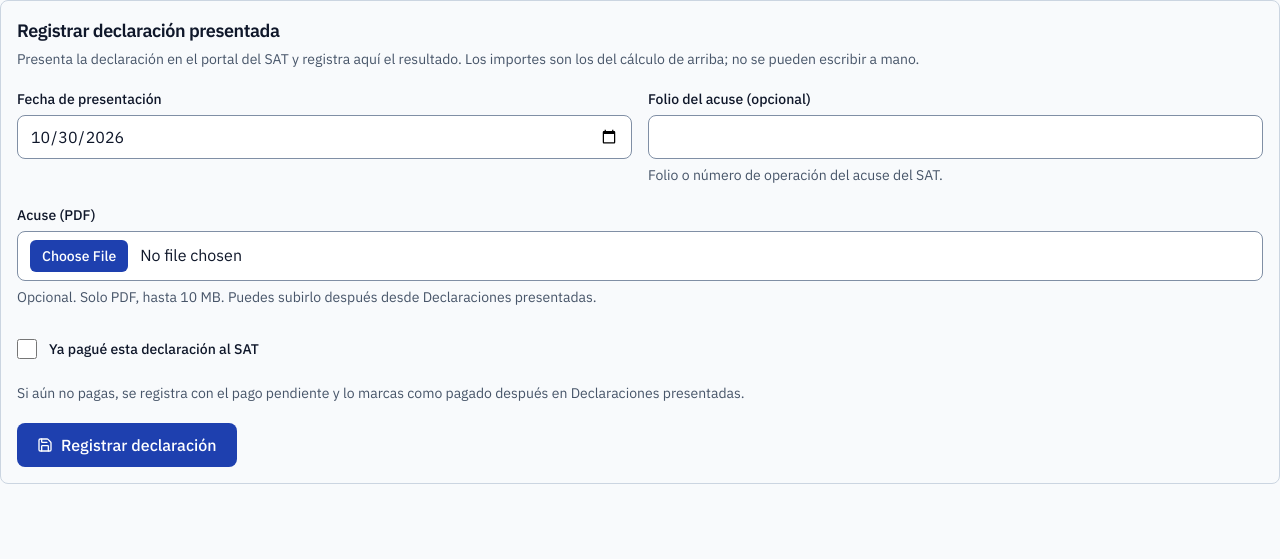
Test case: RegisterForm › shows the API error
In the date field labelled "Fecha de presentación": (324, 137) top-left (17, 115), bottom-right (632, 159), type "2026-11-05"
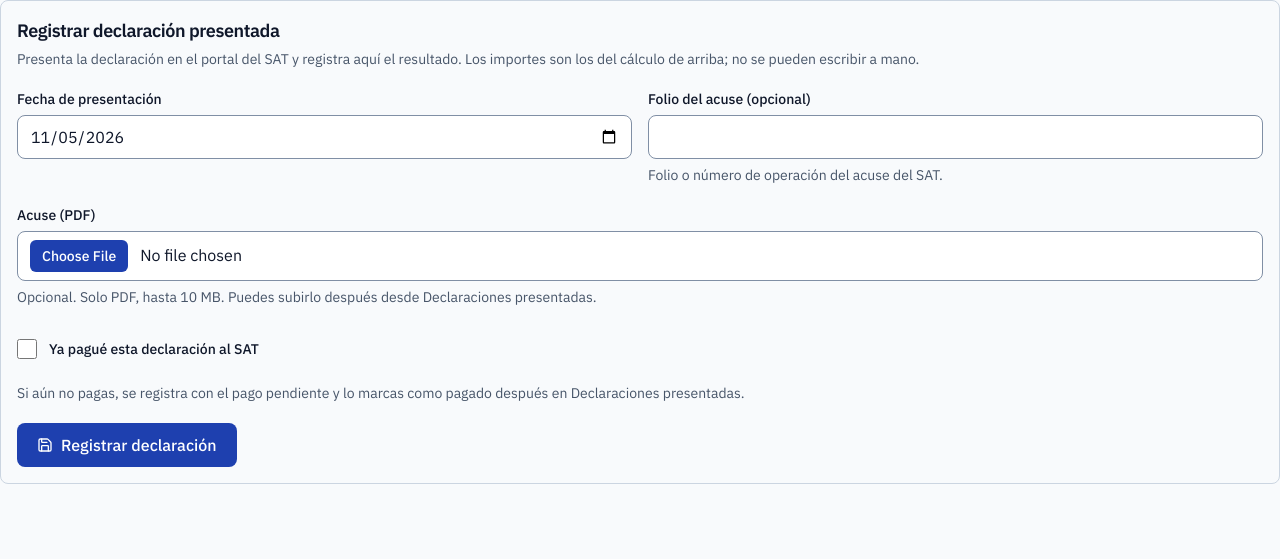
Click the button "Registrar declaración": (127, 445) top-left (17, 423), bottom-right (237, 467)
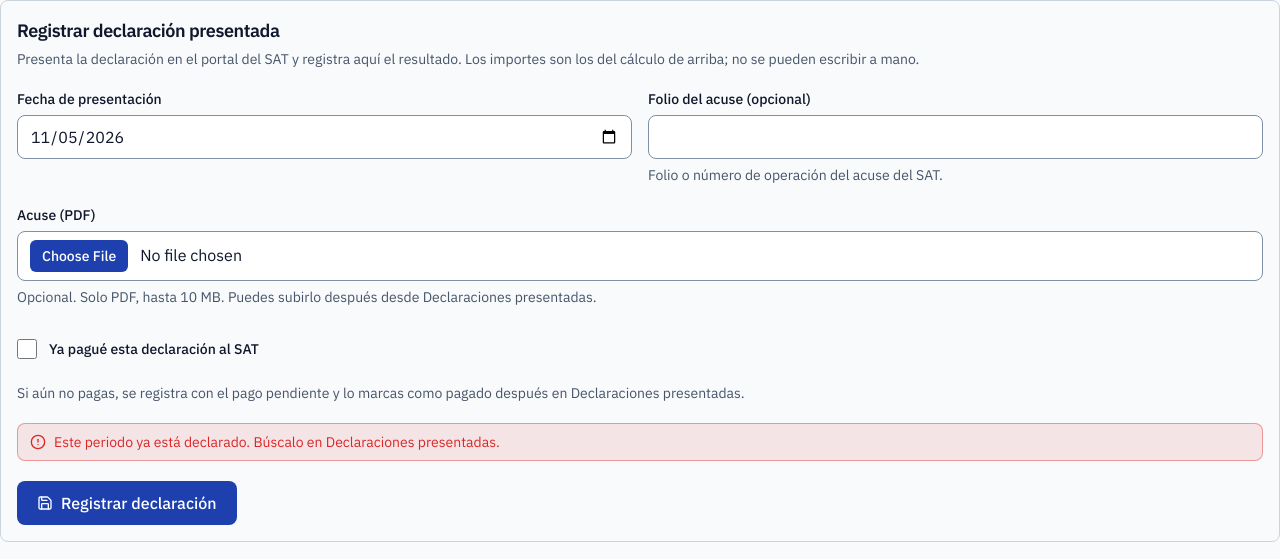
Check: the message shows "Este periodo ya está declarado", box top-left (54, 433), bottom-right (500, 451)
